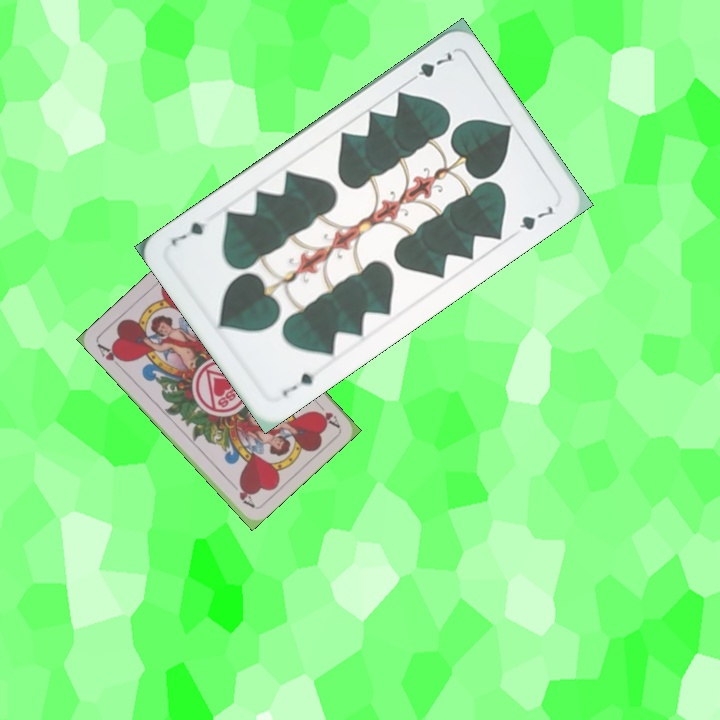G7: (403, 48, 457, 86), (278, 368, 317, 399)
HA: (93, 339, 127, 372), (311, 396, 342, 430)
